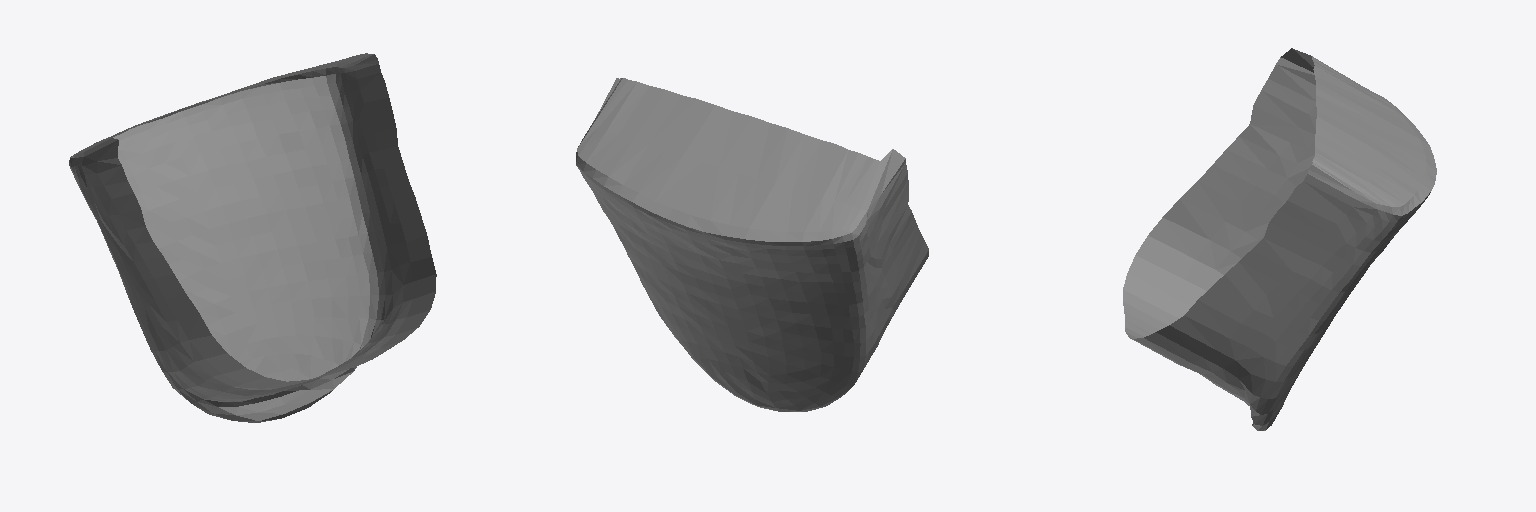
Rendered from right_trigger.obj.
The picture shows the model from 3 angles: view 1: azimuth 30°, elevation 25°; view 2: azimuth 150°, elevation 25°; view 3: azimuth 270°, elevation 25°; orthographic projection.
Parts seen in each view (by area): view 1: right_trigger Mesh; view 2: right_trigger Mesh; view 3: right_trigger Mesh.
Part boxes in pixels (x1,y1,x2,y2): right_trigger Mesh: (69,53,436,422); right_trigger Mesh: (576,78,928,411); right_trigger Mesh: (1123,48,1436,430).
Size of the model in its own units: 0.0281 by 0.031 by 0.0277.